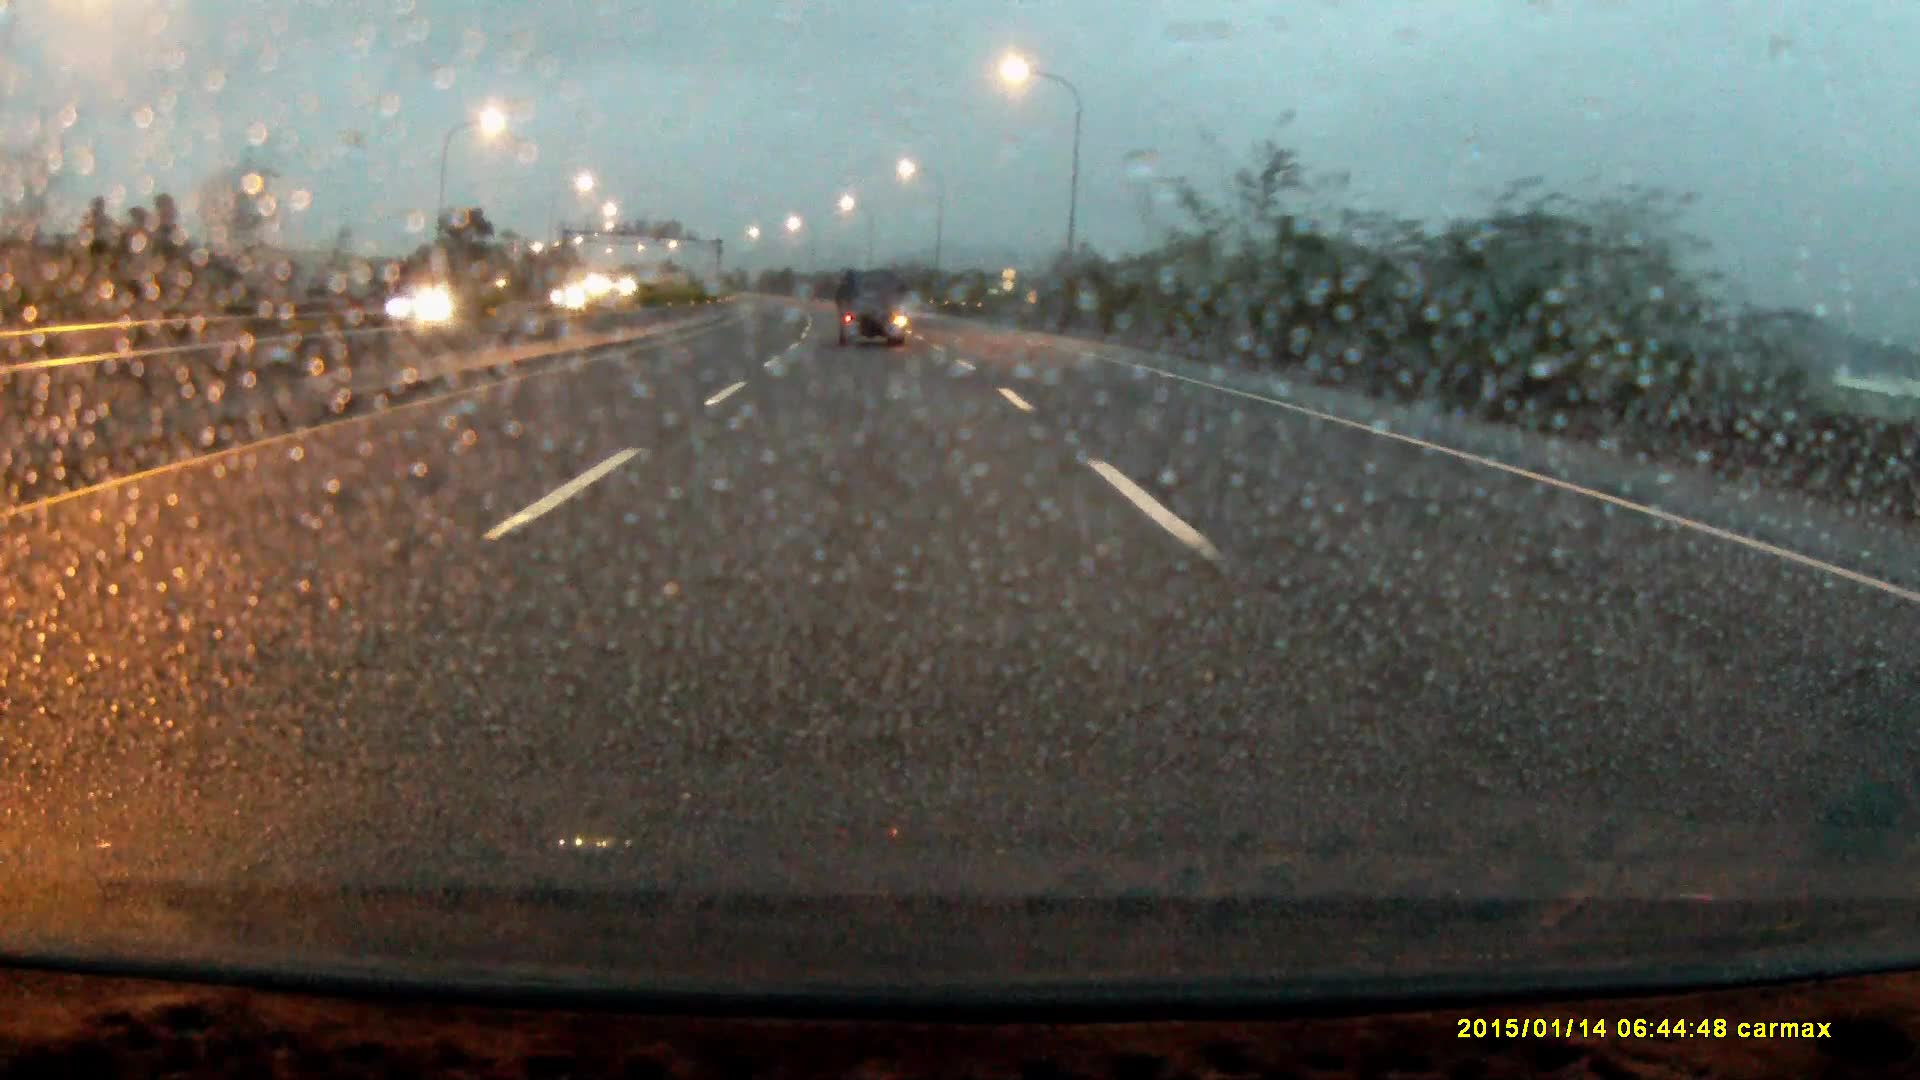vehicle: (837, 276, 907, 351), (371, 289, 473, 334)
